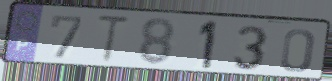0: (278, 27, 318, 74)
1: (196, 19, 220, 72)
3: (231, 25, 271, 72)
7: (48, 13, 85, 61)
8: (136, 16, 180, 69)
T: (95, 13, 133, 66)
